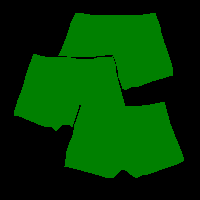mutande: (64, 101, 184, 178), (57, 12, 173, 90), (14, 53, 125, 131)
